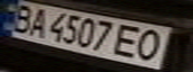0: (75, 16, 96, 50)
4: (42, 10, 66, 43)
5: (60, 14, 81, 47)
7: (90, 18, 118, 54)
A: (21, 7, 54, 37)
B: (3, 2, 39, 34)
E: (112, 22, 148, 60)
O: (130, 27, 172, 62)
